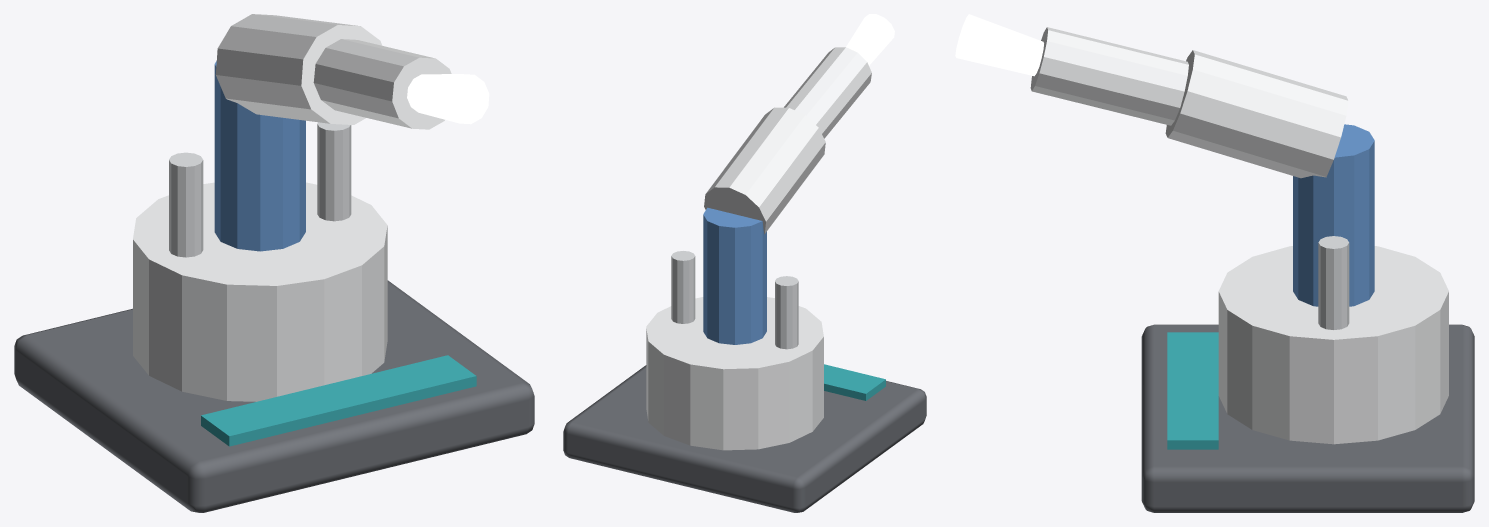
Rendered from curing_light.glb.
The picture shows the model from 3 angles, left to right: view 1: azimuth 30°, elevation 25°; view 2: azimuth 150°, elevation 25°; view 3: azimuth 270°, elevation 25°; orthographic projection. The views are drawn at different scales.
Visible parts, largest first — view 1: curing-light; view 2: curing-light; view 3: curing-light.
Boxes of the visible parts, box(x1,y1,x2,y2) form: curing-light: box(14, 14, 534, 512); curing-light: box(563, 14, 926, 512); curing-light: box(955, 14, 1474, 512).
Size of the model in its own units: 0.14 by 0.1835 by 0.2028.
